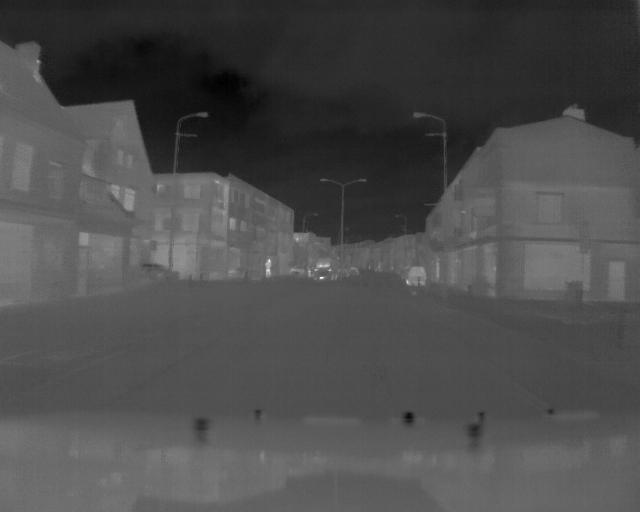car: (310, 258, 339, 285), (403, 263, 429, 288)
person: (264, 259, 274, 281)
